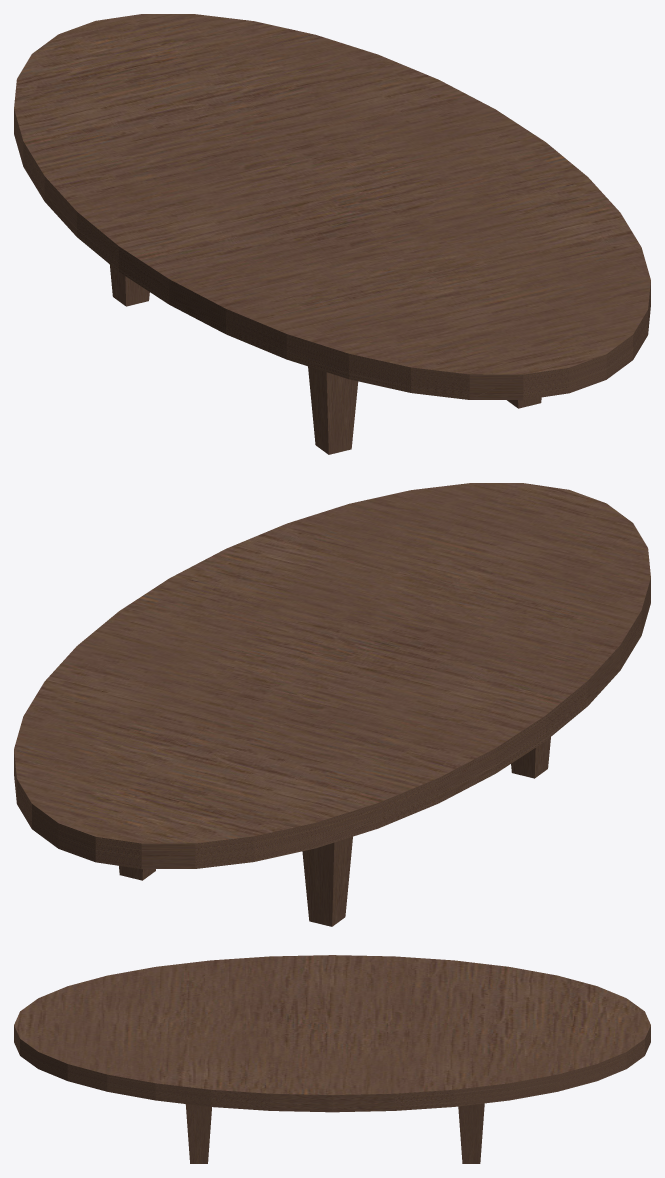
File: столик у дивана.fbx
3 views of the same model, one above another, from view 1: azimuth 30°, elevation 25°; view 2: azimuth 150°, elevation 25°; view 3: azimuth 270°, elevation 25° (orthographic). The views are drawn at different scales.
Visible parts, largest first — view 1: Cylinder; view 2: Cylinder; view 3: Cylinder.
Part boxes in pixels (left/top/right/bottom): Cylinder: left=14, top=14, right=650, bottom=454; Cylinder: left=14, top=483, right=650, bottom=926; Cylinder: left=14, top=955, right=650, bottom=1163.
Bounding box in the file's own units: 479 × 168 × 921.
1 material, 1 textured.
